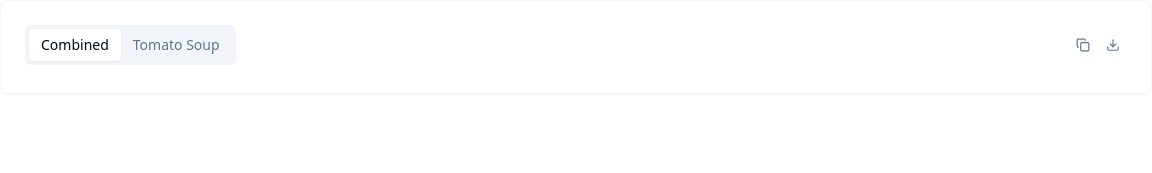
Test: GroceryListSection › handles items without quantity/unit in per-recipe tab
Click the tab "Tomato Soup".
click(176, 45)  # box [121,29,232,61]
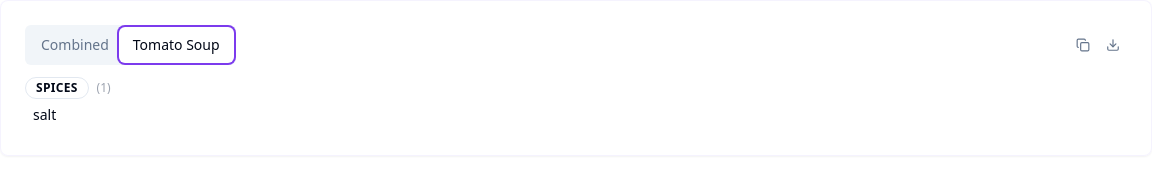
Expected: the text "Spices" is shown, [25,77,89,99]
